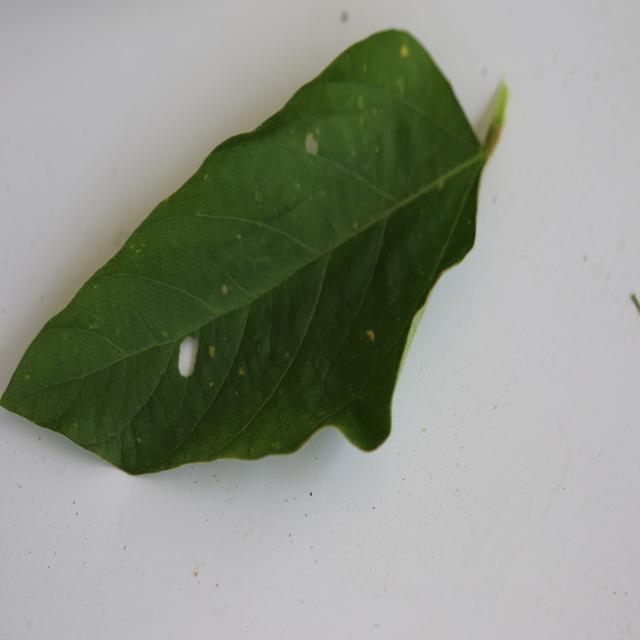Soybean: (0, 29, 509, 478)
downey_mildew: (88, 210, 275, 331), (277, 220, 384, 402), (204, 142, 378, 238), (37, 286, 193, 375), (329, 31, 464, 120), (183, 214, 321, 300), (163, 311, 255, 436), (203, 379, 330, 460), (134, 345, 217, 460), (178, 297, 259, 406), (7, 330, 119, 407), (266, 246, 325, 367), (178, 129, 267, 183), (118, 372, 169, 465), (435, 187, 480, 287), (383, 102, 420, 200), (245, 284, 275, 377), (202, 242, 254, 293), (164, 338, 205, 400), (14, 352, 62, 398), (82, 295, 117, 335), (119, 426, 139, 472), (371, 129, 385, 188), (102, 432, 122, 467), (167, 236, 178, 248)
